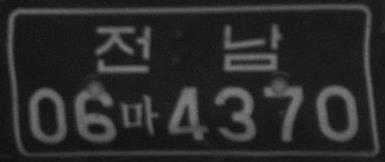0: (314, 83, 360, 143), (27, 86, 68, 146)
3: (213, 84, 258, 142)
4: (167, 85, 208, 142)
6: (74, 86, 117, 144)
7: (261, 84, 305, 143)
마: (118, 93, 159, 136)
전남_D: (95, 23, 283, 72)
